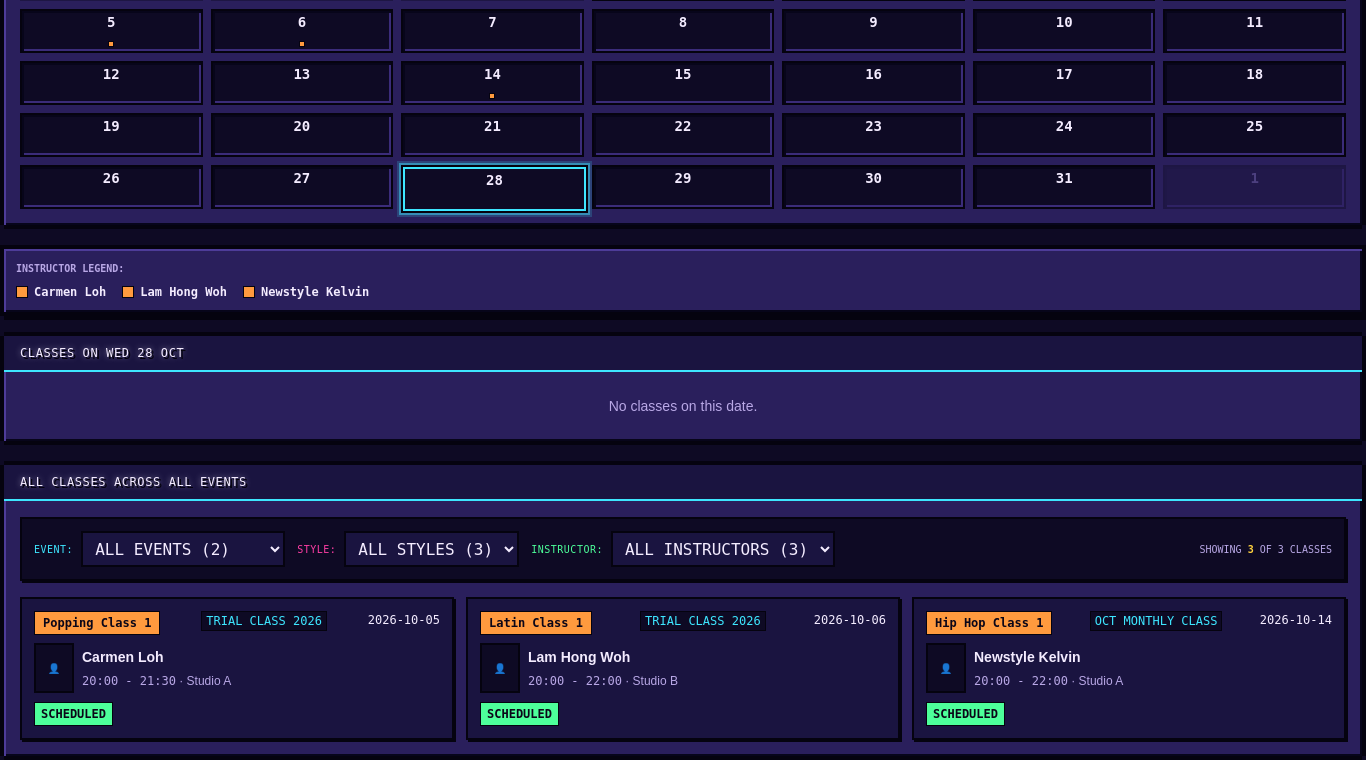
Test case: ClassesPage Filter Component › filters classes by instructor
The image size is (1366, 760).
(page scrolled)
Check: the text "Latin Class 1" is shown, box [480,611,592,635]
Note: Select Lam Hong Woh
Select "Lam Hong Woh" in the dropdown named "Filter classes by instructor" at (723, 549), box [611,531,835,567]
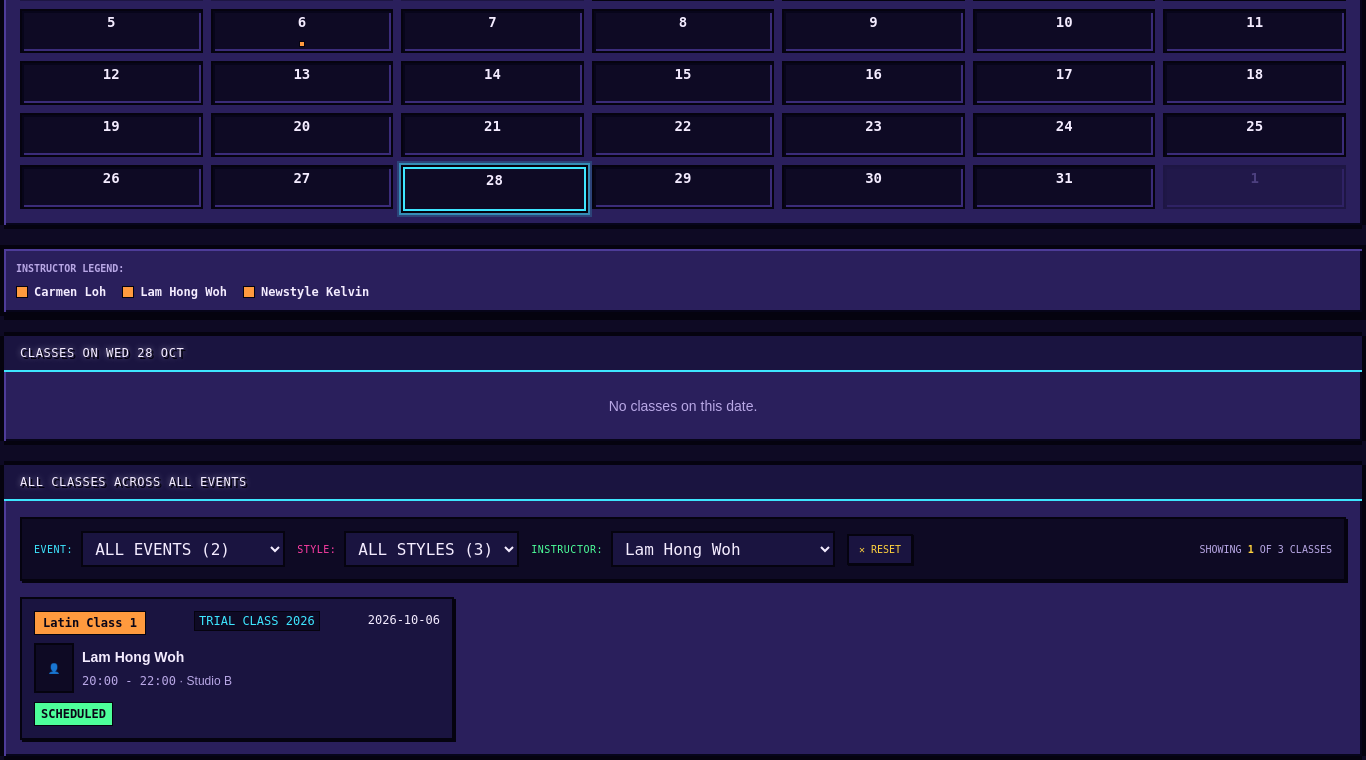
Check: the button "Popping Class 1" is gone
Check: the button "Hip Hop Class 1" is gone
Check: the element with test id "classes-count-badge" reads "SHOWING 1 OF 3 CLASSES", box [1200,542,1332,556]
